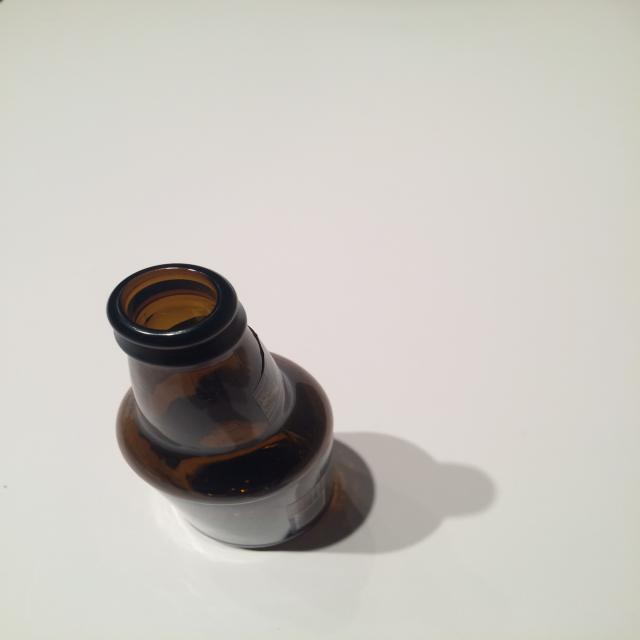glass: (105, 262, 340, 549)
